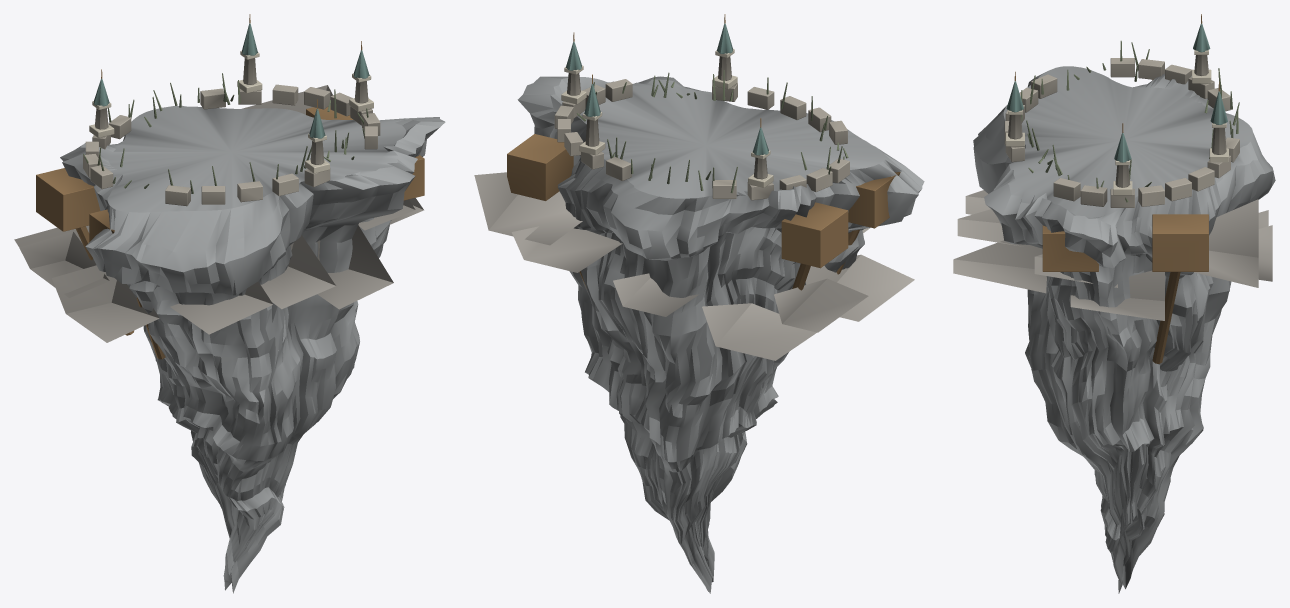
File: island-shard.glb
3 renders of one model, left to right at view 1: azimuth 30°, elevation 25°; view 2: azimuth 150°, elevation 25°; view 3: azimuth 270°, elevation 25°, orthographic. The views are drawn at different scales.
Parts seen in each view (by area): view 1: island-shard__rock, island-shard__rock_light, island-shard__limestone, island-shard__bronze, island-shard__moss, island-shard__pale, island-shard__copper; view 2: island-shard__rock, island-shard__rock_light, island-shard__bronze, island-shard__limestone, island-shard__moss, island-shard__pale, island-shard__copper; view 3: island-shard__rock, island-shard__rock_light, island-shard__limestone, island-shard__bronze, island-shard__copper, island-shard__moss, island-shard__pale.
Boxes of the visible parts, left/top/right/bottom form: island-shard__rock: left=60, top=105, right=445, bottom=593; island-shard__rock_light: left=14, top=85, right=423, bottom=342; island-shard__limestone: left=83, top=58, right=380, bottom=206; island-shard__bronze: left=36, top=14, right=424, bottom=359; island-shard__moss: left=83, top=73, right=368, bottom=193; island-shard__pale: left=89, top=50, right=373, bottom=173; island-shard__copper: left=93, top=23, right=369, bottom=138; island-shard__rock: left=517, top=76, right=924, bottom=593; island-shard__rock_light: left=474, top=172, right=914, bottom=360; island-shard__bronze: left=507, top=14, right=900, bottom=290; island-shard__limestone: left=554, top=56, right=849, bottom=200; island-shard__moss: left=576, top=70, right=848, bottom=193; island-shard__pale: left=561, top=49, right=773, bottom=187; island-shard__copper: left=566, top=23, right=768, bottom=155; island-shard__rock: left=973, top=66, right=1275, bottom=593; island-shard__rock_light: left=953, top=190, right=1272, bottom=320; island-shard__limestone: left=1004, top=55, right=1239, bottom=207; island-shard__bronze: left=1014, top=14, right=1219, bottom=363; island-shard__copper: left=1006, top=23, right=1227, bottom=162; island-shard__moss: left=1021, top=40, right=1239, bottom=202; island-shard__pale: left=1005, top=49, right=1228, bottom=195.
Bounding box in the file's own units: 125 × 171 × 91.4.
